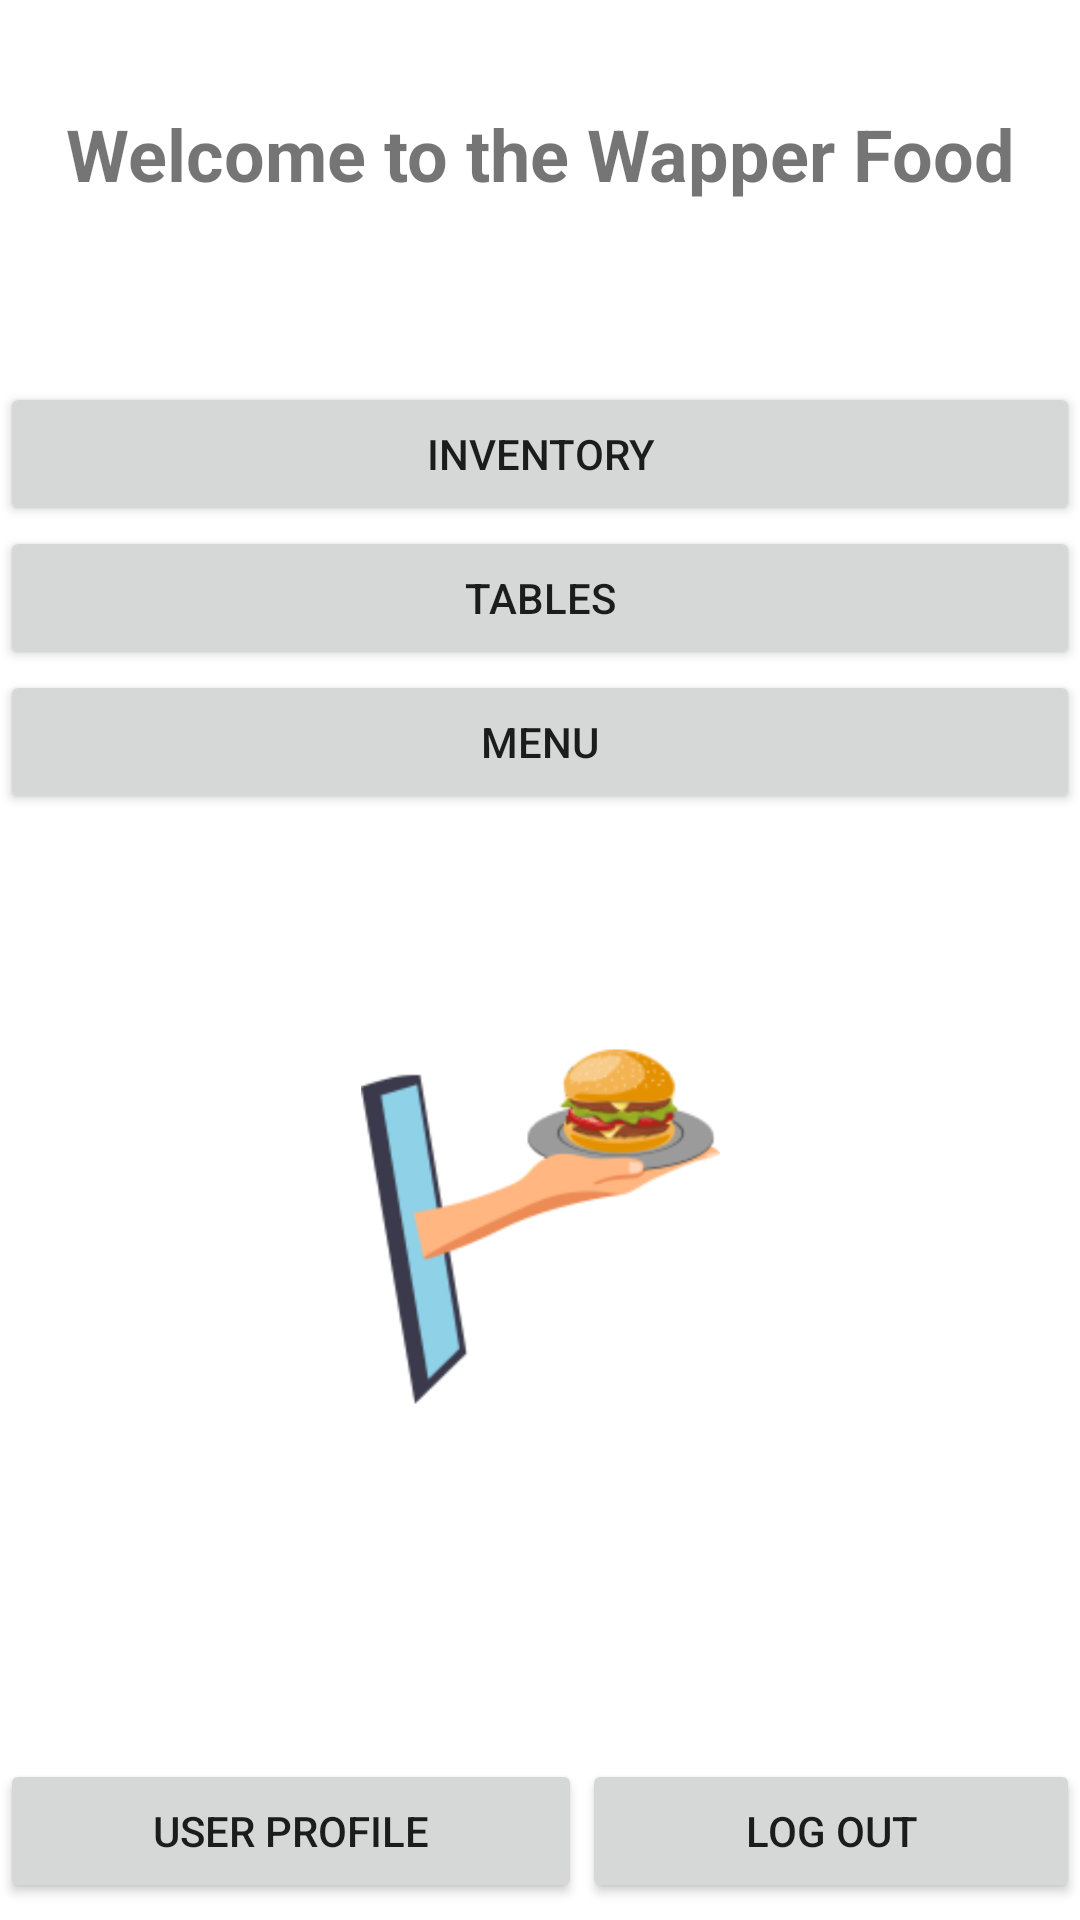

Locate icon controls on the screen. Image size 1080w x 1920h, boxes as (x1, y1, x2, y2).
wapper: (361, 1049, 720, 1404)
